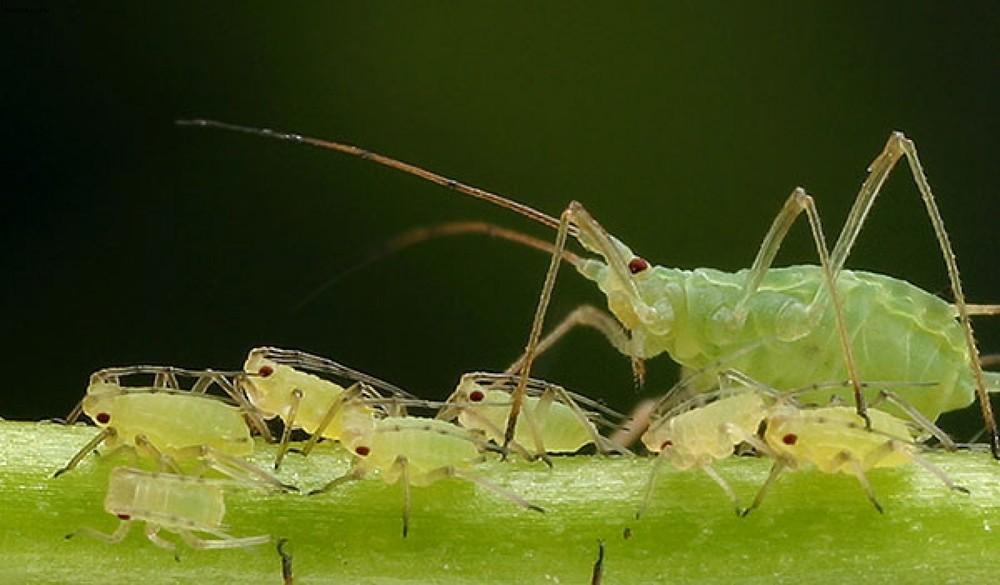Pulgon: (356, 113, 1000, 460), (750, 370, 959, 518), (53, 345, 272, 481), (327, 388, 544, 524), (430, 338, 627, 473), (83, 440, 283, 567), (232, 325, 430, 453), (619, 353, 779, 489)
